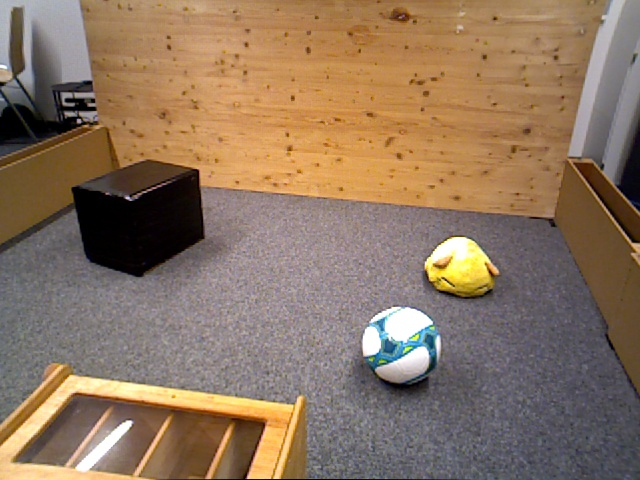grasp: (425, 236, 499, 298)
kick: (362, 306, 442, 387)
push: (73, 161, 206, 278)
